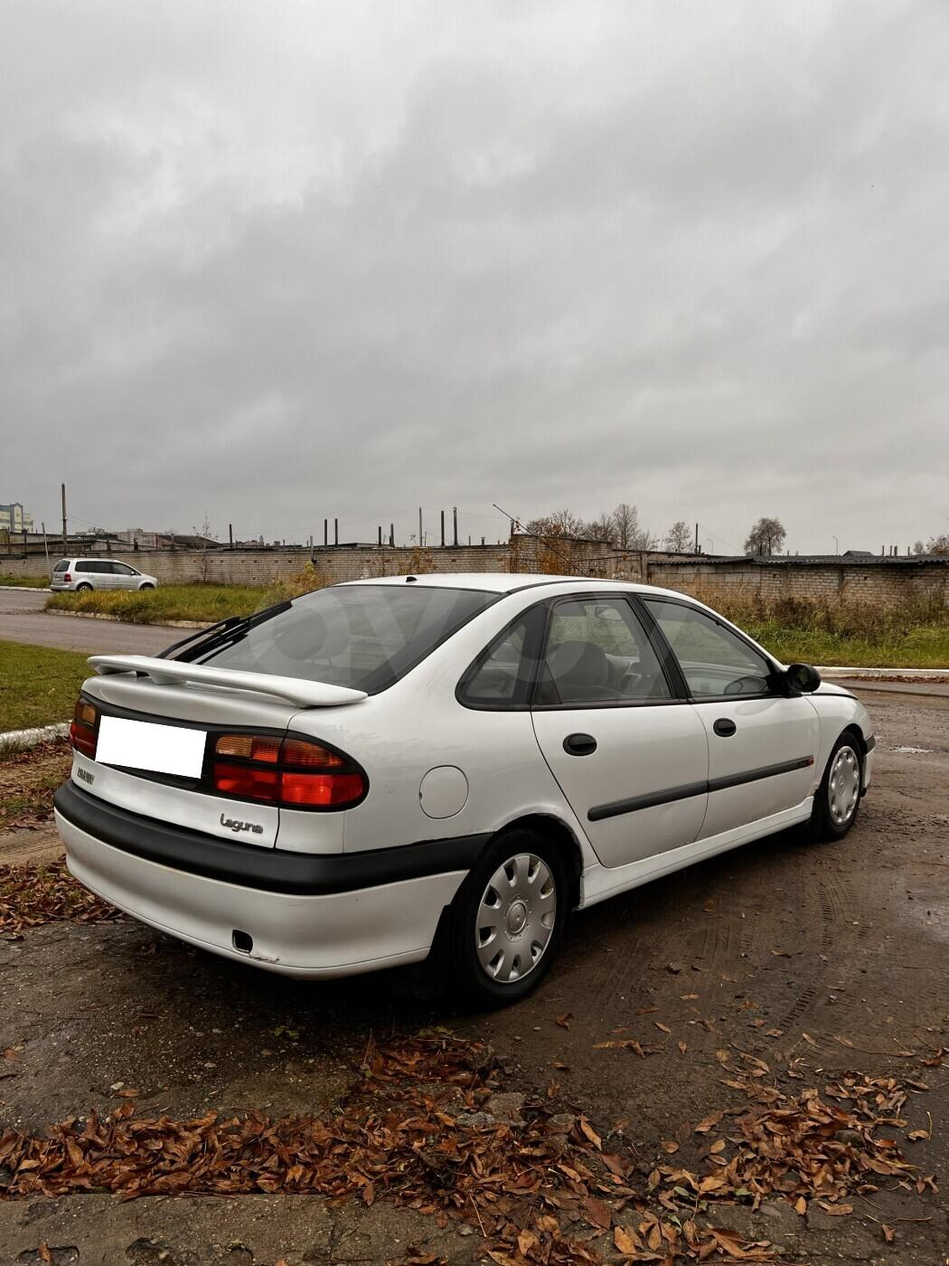Laguna_1998-2001: (52, 564, 873, 1015)
